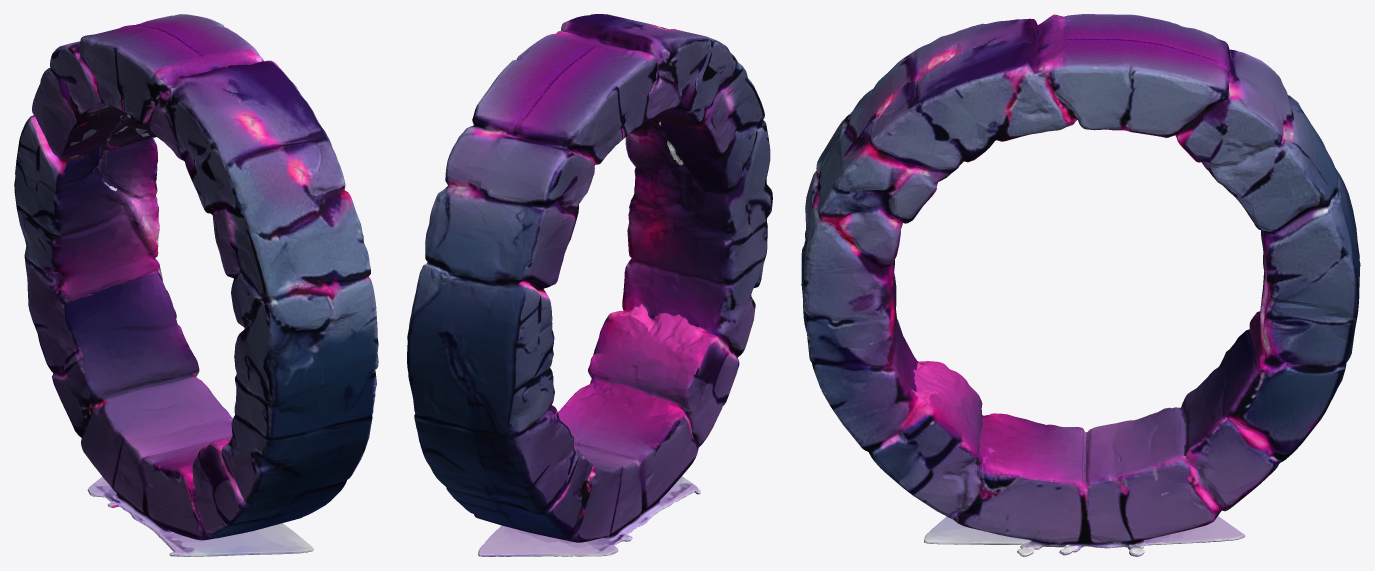
File: ring-fragment-east-generated-2026-04-20T00-01-43-946Z.medium.glb
3 renders of one model, left to right at view 1: azimuth 30°, elevation 25°; view 2: azimuth 150°, elevation 25°; view 3: azimuth 270°, elevation 25°, orthographic. The views are drawn at different scales.
Parts seen in each view (by area): view 1: temp_mesh.ply; view 2: temp_mesh.ply; view 3: temp_mesh.ply.
Boxes of the visible parts, <box> form: temp_mesh.ply: <box>14,14,378,556</box>; temp_mesh.ply: <box>407,14,772,556</box>; temp_mesh.ply: <box>801,14,1360,556</box>.
Bounding box in the file's own units: 0.5942 × 1.89 × 1.97.
Materials: 1 (1 with a texture image).
